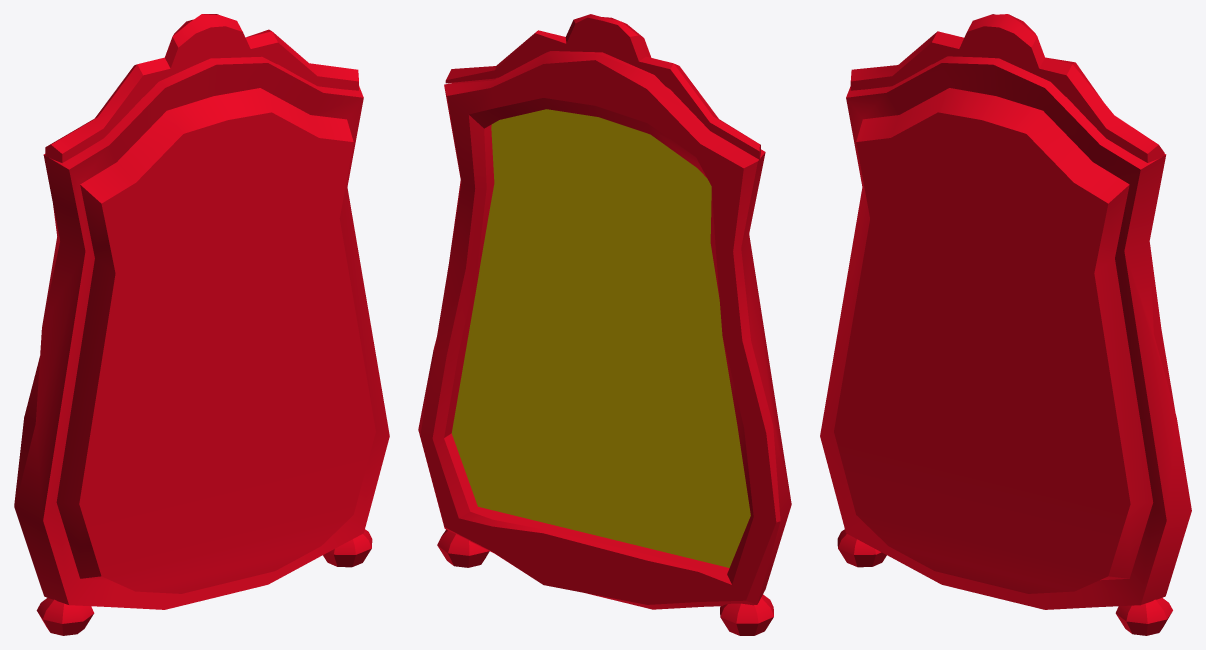
Rendered from SM_Mirror_big.fbx.
The picture shows the model from 3 angles, left to right: view 1: azimuth 30°, elevation 25°; view 2: azimuth 150°, elevation 25°; view 3: azimuth 330°, elevation 25°; orthographic projection.
Visible parts, largest first — view 1: SM_Mirror_big.004; view 2: SM_Mirror_big.004; view 3: SM_Mirror_big.004.
Boxes of the visible parts, x1=… form: SM_Mirror_big.004: x1=14, y1=14, x2=389, y2=635; SM_Mirror_big.004: x1=418, y1=14, x2=791, y2=635; SM_Mirror_big.004: x1=820, y1=14, x2=1191, y2=635.
Bounding box in the file's own units: 2.02 × 3.06 × 0.3585.
